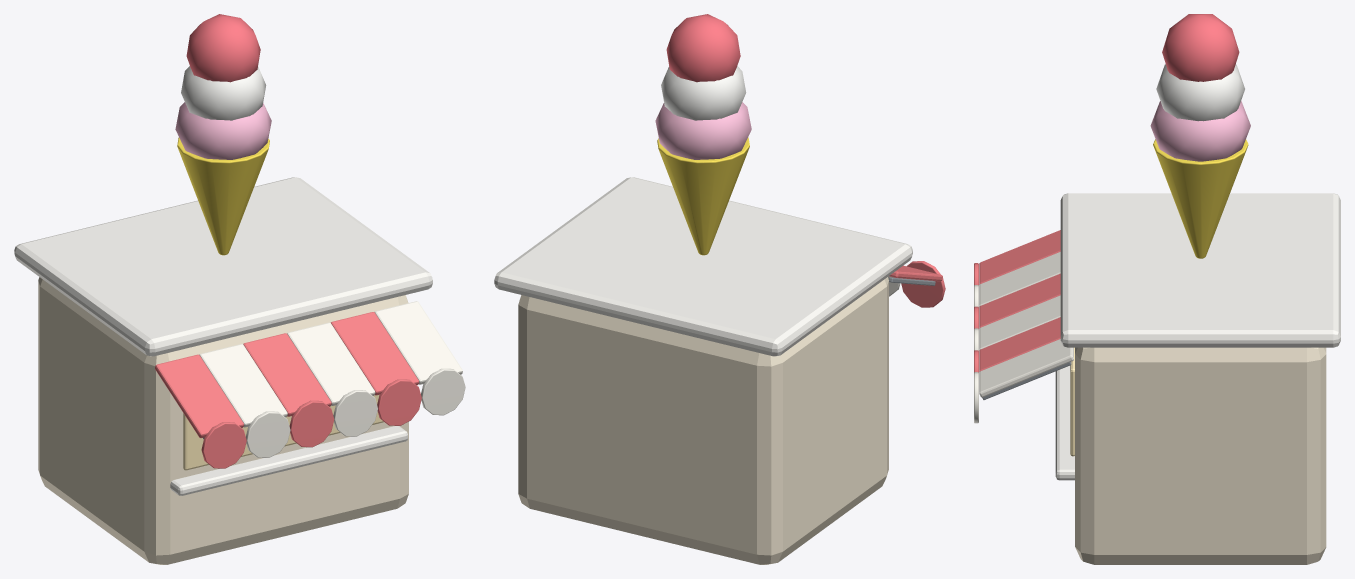
Rendered from kiosk.fbx.
3 renders of one model, left to right at view 1: azimuth 30°, elevation 25°; view 2: azimuth 150°, elevation 25°; view 3: azimuth 270°, elevation 25°, orthographic. The views are drawn at different scales.
Parts seen in each view (by area): view 1: Visual; view 2: Visual; view 3: Visual.
Boxes of the visible parts, x1,y1,x2,y2 form: Visual: (14,14,465,564); Visual: (494,14,945,564); Visual: (974,14,1340,564).
Size of what is drawn, in the model's own units: 350 by 561 by 380.
